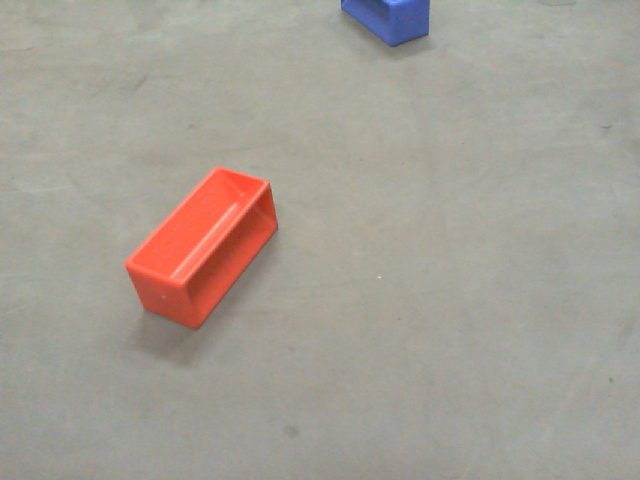BlueSample: (337, 1, 431, 46)
RedSample: (120, 162, 280, 331)
